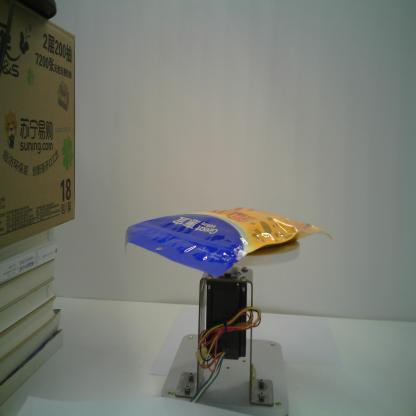Dried Fruit: (123, 206, 335, 278)
